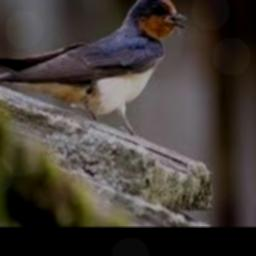Swallow: (0, 0, 188, 135)
